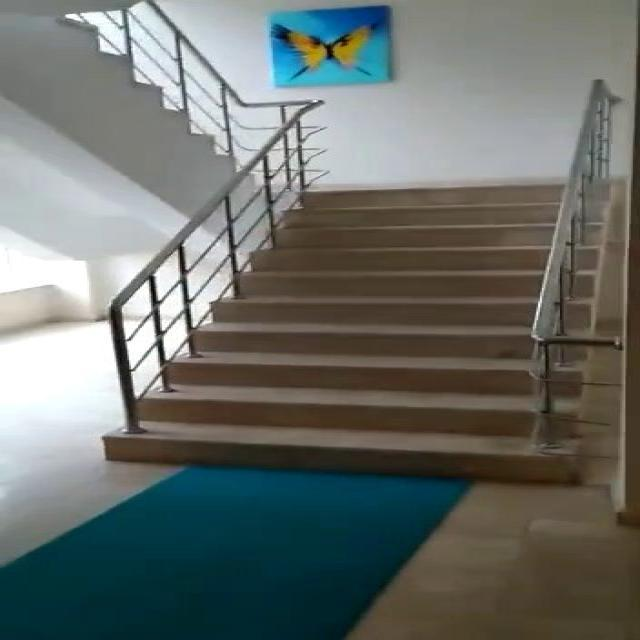stair: (118, 186, 602, 481)
